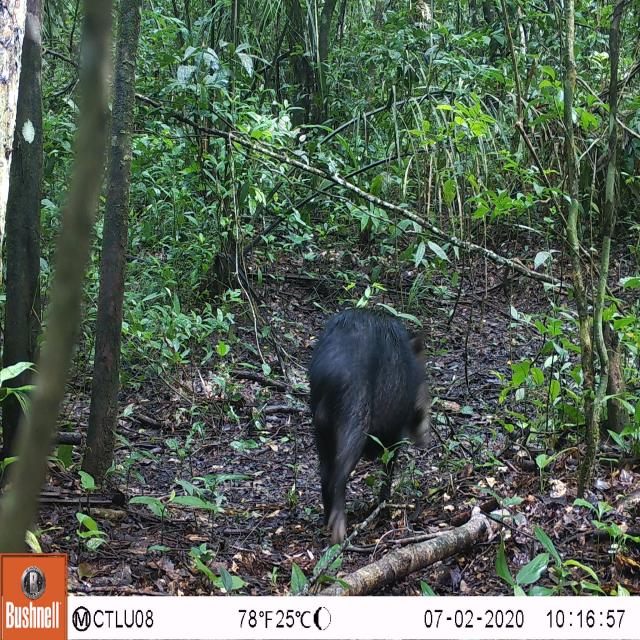White-lipped Peccary: (294, 305, 440, 545)
